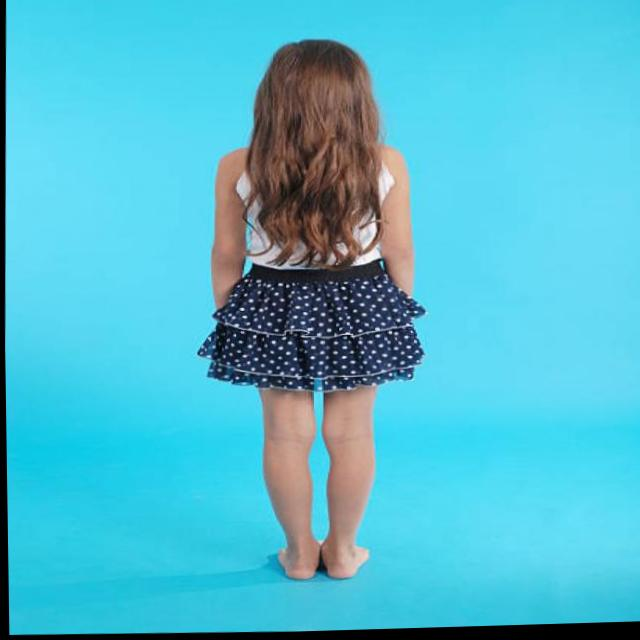no helmet: (232, 12, 397, 190)
